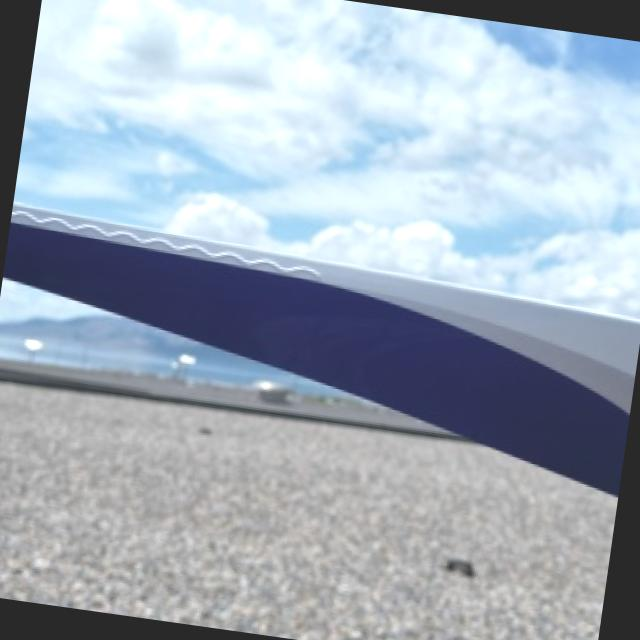healthy: (3, 204, 640, 491)
